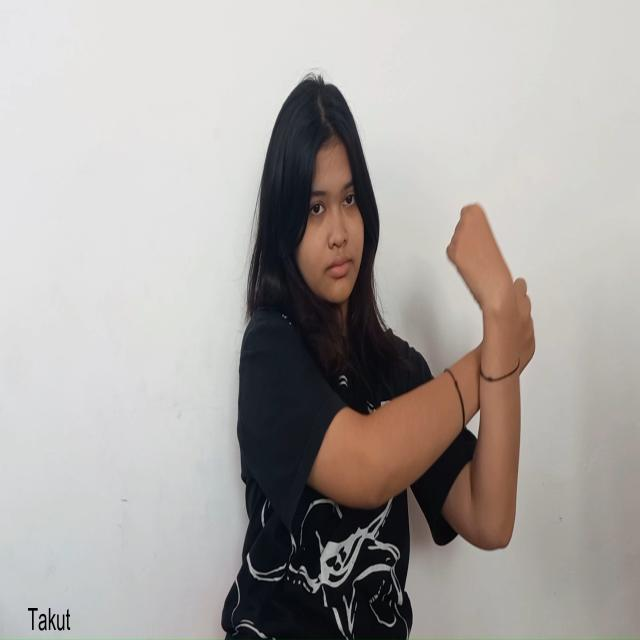Takut -BISINDO-: (446, 202, 536, 459)
